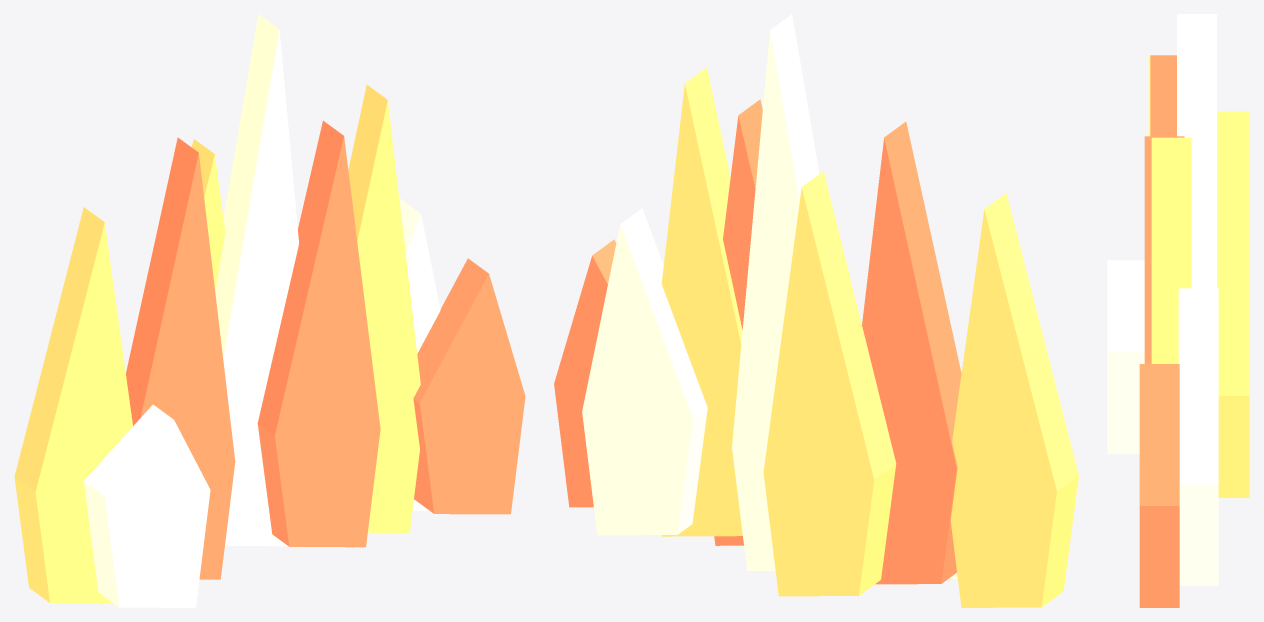
File: cinder.glb
3 renders of one model, left to right at view 1: azimuth 30°, elevation 25°; view 2: azimuth 150°, elevation 25°; view 3: azimuth 270°, elevation 25°, orthographic. The views are drawn at different scales.
Parts seen in each view (by area): view 1: Cinder Burst dimensional effect.001; view 2: Cinder Burst dimensional effect.001; view 3: Cinder Burst dimensional effect.001.
Part boxes in pixels (x1,y1,x2,y2): Cinder Burst dimensional effect.001: (14,14,525,607); Cinder Burst dimensional effect.001: (554,14,1078,607); Cinder Burst dimensional effect.001: (1107,14,1249,607).
Bounding box in the file's own units: 1.33 × 1.37 × 0.3566.
